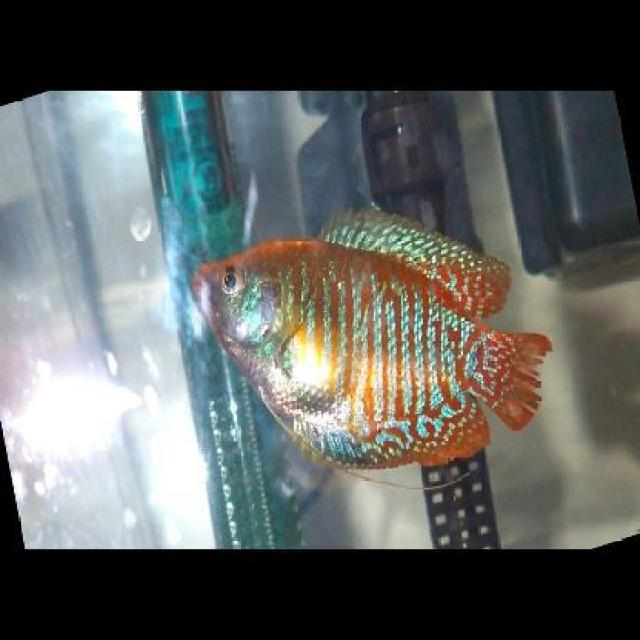Gourami: (178, 208, 554, 484)
